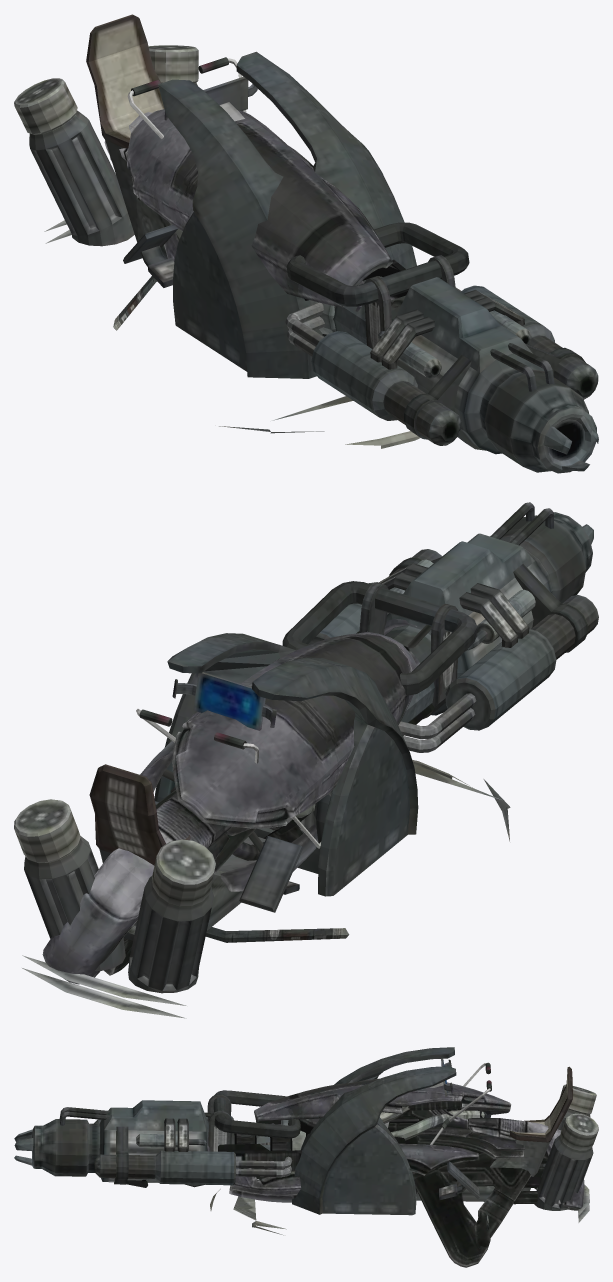
File: turret.glb
3 views of the same model, one above another, from view 1: azimuth 30°, elevation 25°; view 2: azimuth 150°, elevation 25°; view 3: azimuth 270°, elevation 25° (orthographic). The views are drawn at different scales.
Parts seen in each view (by area): view 1: Object_7, Object_8; view 2: Object_7, Object_8; view 3: Object_7, Object_8.
Boxes of the visible parts, x1,y1,x2,y2 form: Object_7: [14, 14, 598, 473]; Object_8: [104, 109, 407, 336]; Object_7: [14, 502, 598, 1018]; Object_8: [42, 618, 434, 984]; Object_7: [14, 1047, 598, 1235]; Object_8: [125, 1078, 584, 1267].
Bounding box in the file's own units: 1.1 × 1.03 × 2.97.
2 materials, 2 textured.
